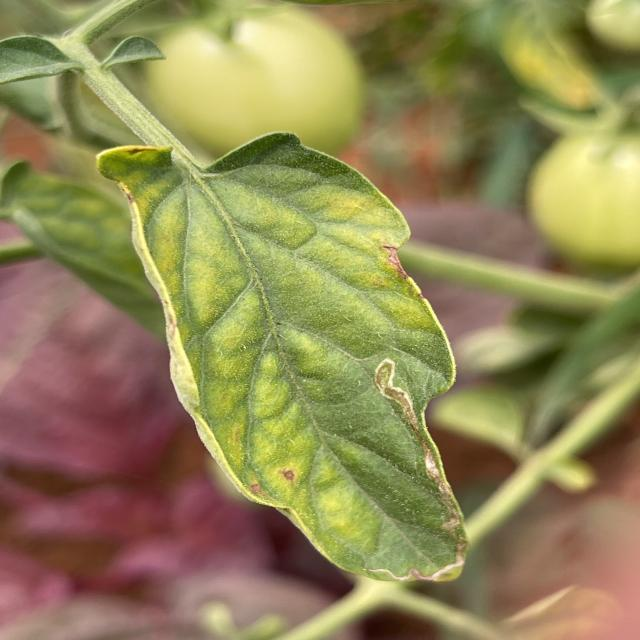tomato_early blight: (98, 130, 475, 588), (502, 4, 592, 111)
